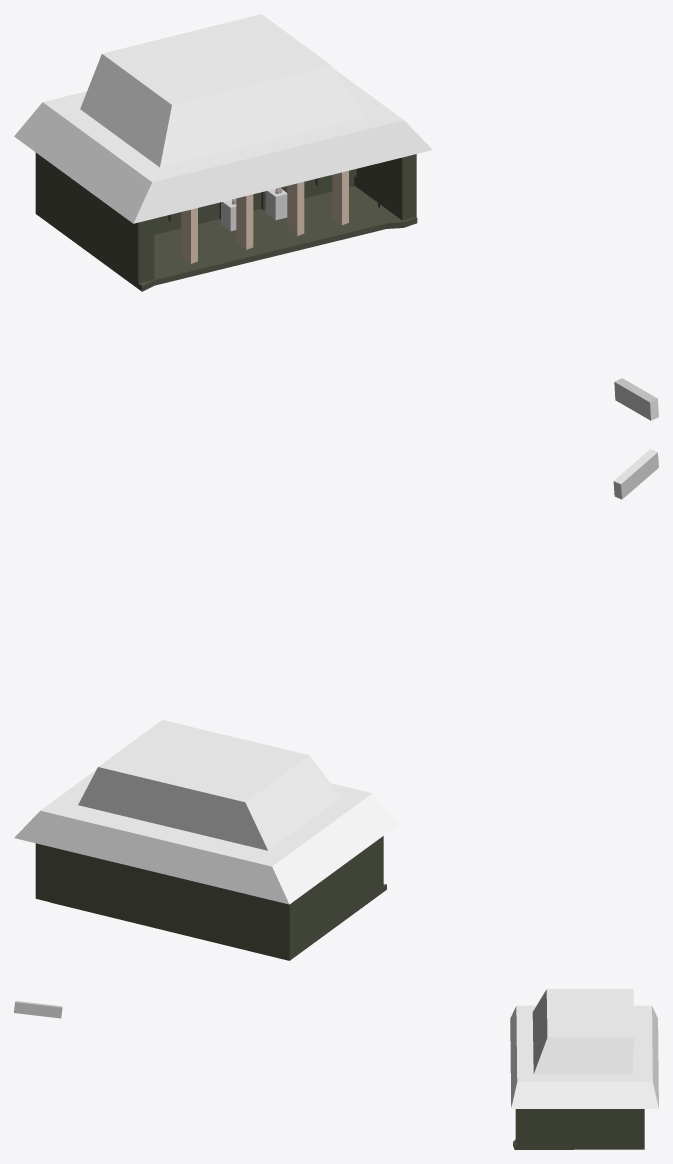
The model's file is museum.glb.
3 renders of one model, top to bottom at view 1: azimuth 30°, elevation 25°; view 2: azimuth 150°, elevation 25°; view 3: azimuth 270°, elevation 25°, orthographic. The views are drawn at different scales.
Visible parts, largest first — view 1: Cube.008, Cube.002, Cube, Cube.006, Cube.004, Cube.005, Cube.003, Cube.007, Cube.001; view 2: Cube.008, Cube, Cube.002, Cube.006; view 3: Cube.008, Cube.002, Cube, Cube.006.
Part boxes in pixels (x1,y1,x2,y2): Cube.008: (80, 14, 365, 167); Cube.002: (14, 69, 432, 223); Cube: (35, 152, 417, 291); Cube.006: (614, 378, 658, 420); Cube.004: (236, 194, 253, 249); Cube.005: (287, 182, 304, 236); Cube.003: (181, 208, 197, 263); Cube.007: (332, 170, 348, 225); Cube.001: (266, 188, 287, 220); Cube.008: (78, 720, 340, 850); Cube: (35, 836, 386, 960); Cube.002: (14, 770, 398, 904); Cube.006: (613, 449, 658, 499); Cube.008: (532, 989, 634, 1074); Cube.002: (510, 1005, 658, 1108); Cube: (513, 1109, 644, 1149); Cube.006: (14, 1001, 62, 1018).
Size of the model in its own units: 35.45 by 17.98 by 107.
